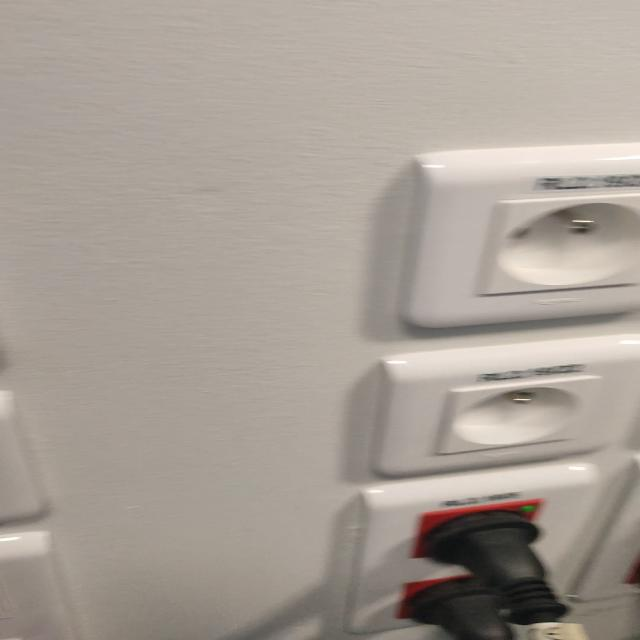house plug: (484, 194, 640, 296), (439, 378, 600, 454)
